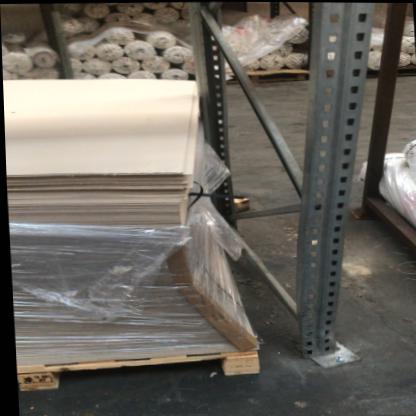vertical_damage: (283, 294, 366, 373)
